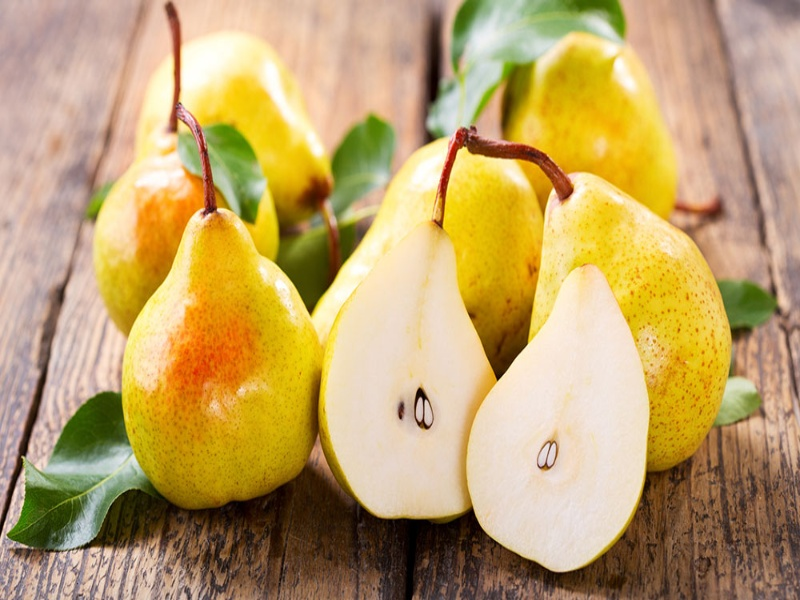Pera: (469, 118, 732, 471), (126, 104, 321, 508), (320, 126, 496, 531), (468, 264, 648, 579), (138, 30, 355, 279), (371, 136, 538, 374), (506, 33, 676, 235)
